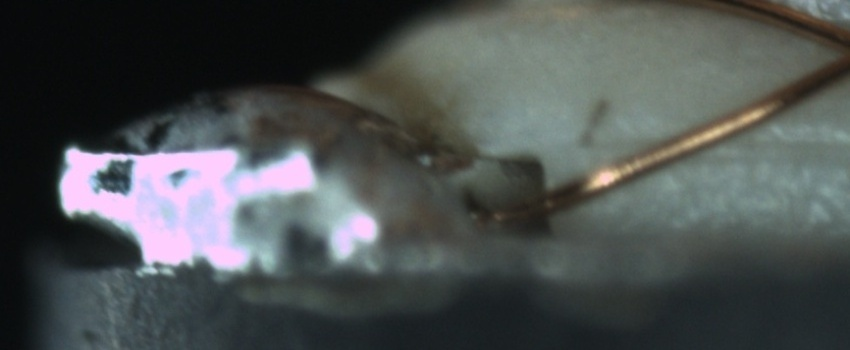DL: (612, 110, 847, 182)
